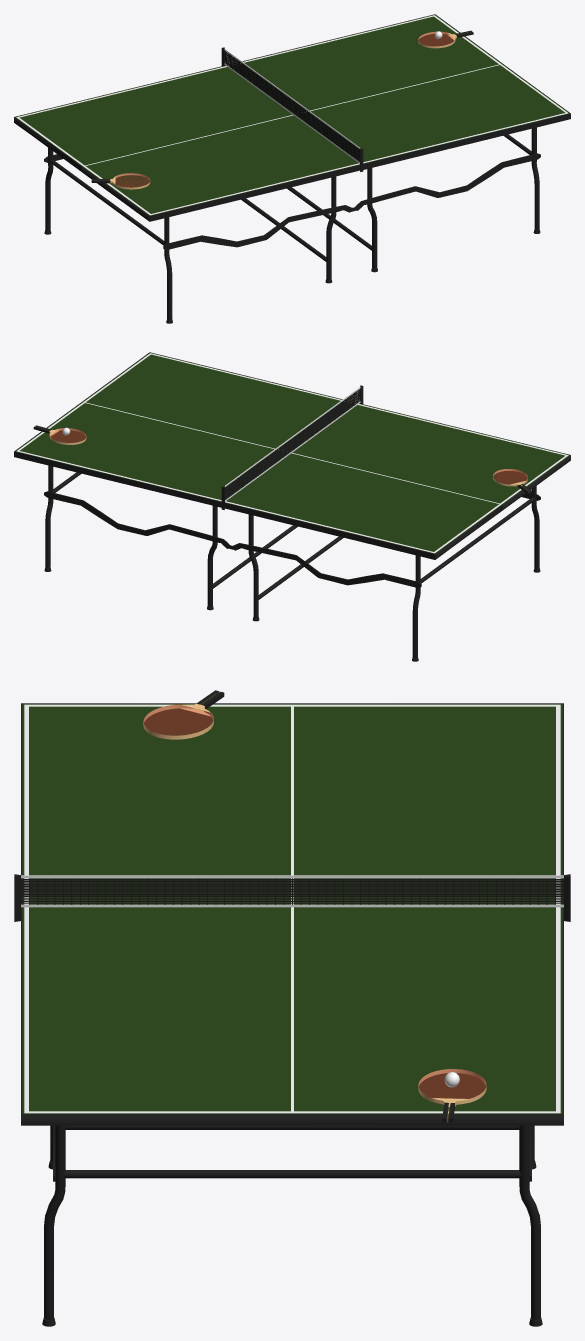
Rendered from Table.fbx.
3 views of the same model, one above another, from view 1: azimuth 30°, elevation 25°; view 2: azimuth 150°, elevation 25°; view 3: azimuth 270°, elevation 25° (orthographic). The views are drawn at different scales.
Visible parts, largest first — view 1: Table, PaddleOne, PaddleTwo; view 2: Table, PaddleOne, PaddleTwo; view 3: Table, PaddleOne, PaddleTwo.
Boxes of the visible parts, box(x1,y1,x2,y2) form: Table: box(14, 14, 570, 323); PaddleOne: box(91, 173, 150, 189); PaddleTwo: box(418, 30, 473, 48); Table: box(14, 352, 570, 661); PaddleOne: box(493, 469, 531, 493); PaddleTwo: box(33, 425, 86, 444); Table: box(14, 703, 570, 1326); PaddleOne: box(143, 690, 224, 739); PaddleTwo: box(418, 1069, 486, 1122).
Size of what is drawn, in the model's own units: 286 by 83.77 by 157.
